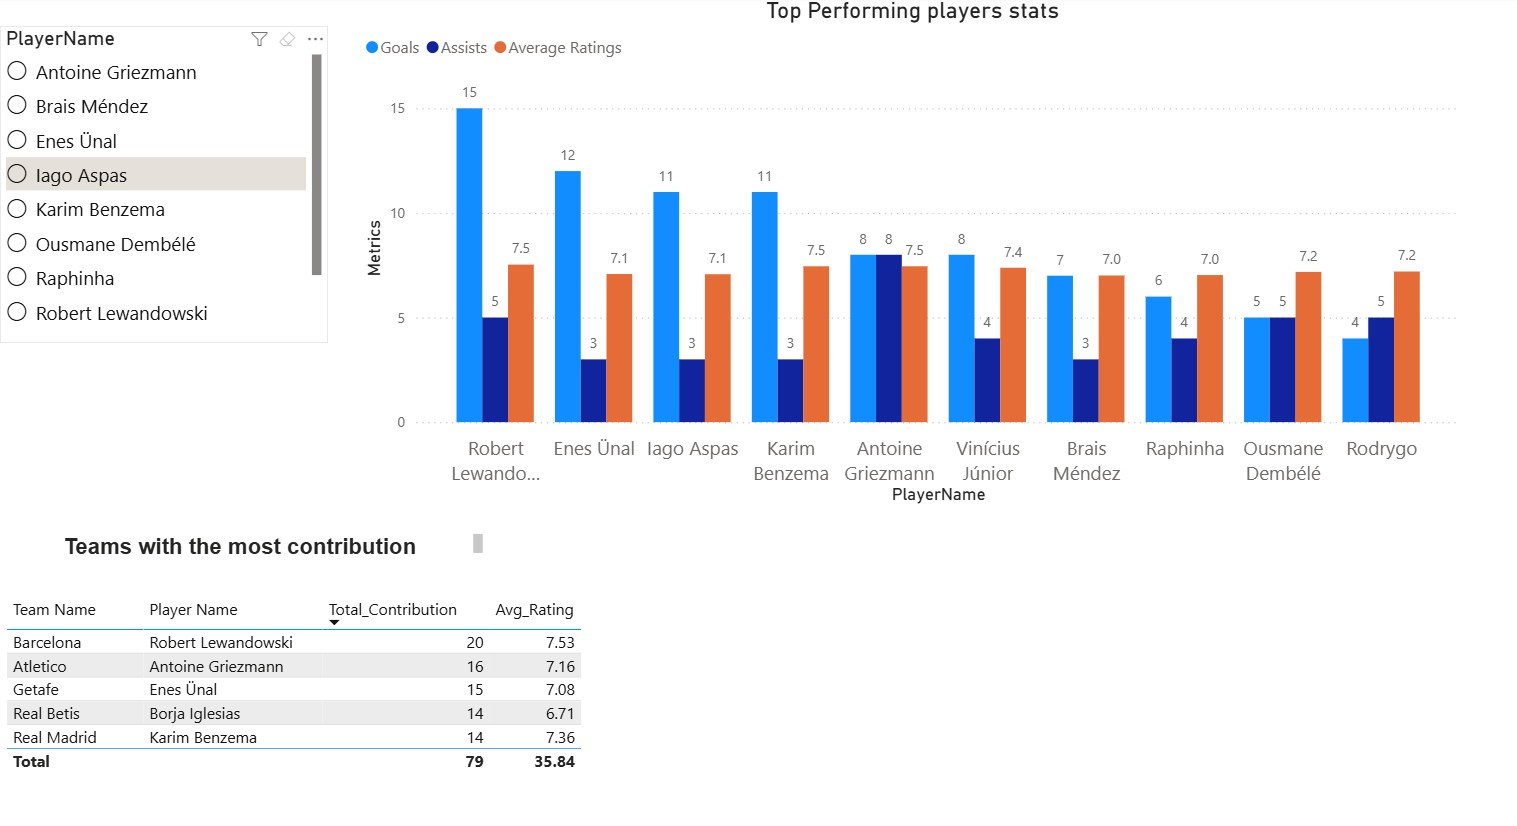

The page's visual inventory and layout, read from the dashboard file:
{"tool":"powerbi","page":{"name":"Q 1-2","canvas":[1280,720],"ordinal":0},"visuals":[{"type":"clusteredColumnChart","title":"Top Performing players stats","fields":{"Category":["main_LaLiga_Player_dataset.PlayerName"],"Y":["main_LaLiga_Player_dataset.Goals","main_LaLiga_Player_dataset.Assists","main_LaLiga_Player_dataset.Ratings"]},"box":[302.4,0,933.8,432.8],"z":0},{"type":"listSlicer","fields":{"Values":["main_LaLiga_Player_dataset.PlayerName"]},"box":[0,30.1,276.4,267.8],"z":1000},{"type":"textbox","box":[0,448.1,412.4,28.5],"z":2000},{"type":"tableEx","fields":{"Values":["Question_2.Team Name","Question_2.Player Name","Question_2.Total_Contribution","Question_2.Avg_Rating"]},"box":[0,501,499,171.1],"z":3000}]}

Visuals, with their boxes on the page's 1280x720 design canvas (x1, y1, x2, y2). These are canvas units, not pixel positions in the 1517x826 screenshot, which may show the page scaled, cropped or inside an application window:
"Top Performing players stats" clusteredColumnChart: box(302, 0, 1236, 433)
listSlicer - main_LaLiga_Player_dataset.PlayerName: box(0, 30, 276, 298)
textbox: box(0, 448, 412, 477)
tableEx - Question_2.Team Name x Question_2.Player Name: box(0, 501, 499, 672)
